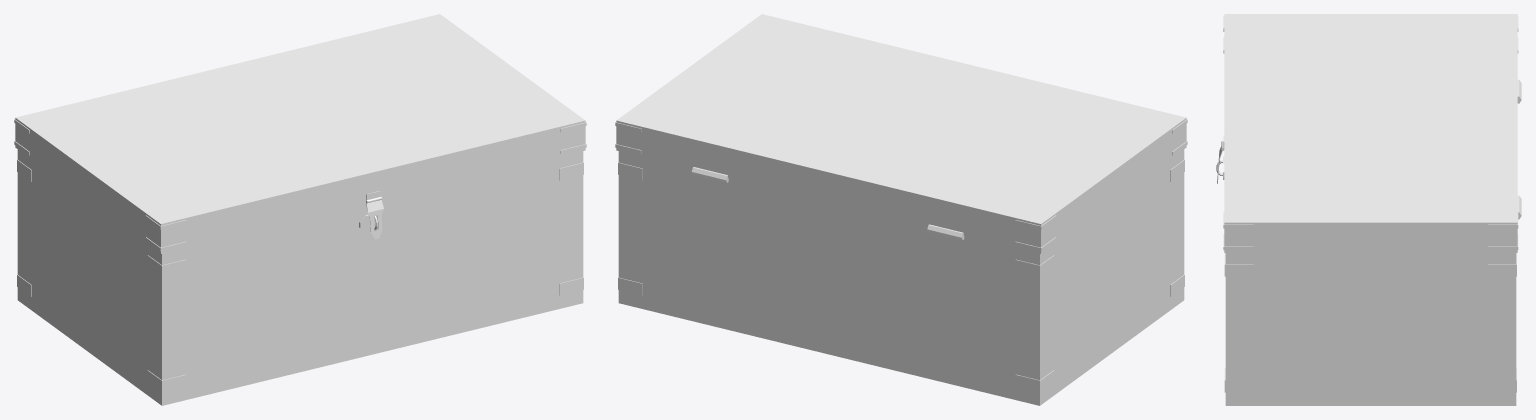
File: Prop_Wooden_Chest_01.glb
The picture shows the model from 3 angles, left to right: view 1: azimuth 30°, elevation 25°; view 2: azimuth 150°, elevation 25°; view 3: azimuth 270°, elevation 25°; orthographic projection.
Visible parts, largest first — view 1: Prop_Wooden_Chest_01; view 2: Prop_Wooden_Chest_01; view 3: Prop_Wooden_Chest_01.
Boxes of the visible parts, left/top/right/bottom form: Prop_Wooden_Chest_01: left=14, top=14, right=586, bottom=405; Prop_Wooden_Chest_01: left=615, top=14, right=1187, bottom=405; Prop_Wooden_Chest_01: left=1216, top=14, right=1521, bottom=405.
Bounding box in the file's own units: 1.13 × 0.4649 × 0.6987.
1 material, 1 textured.
